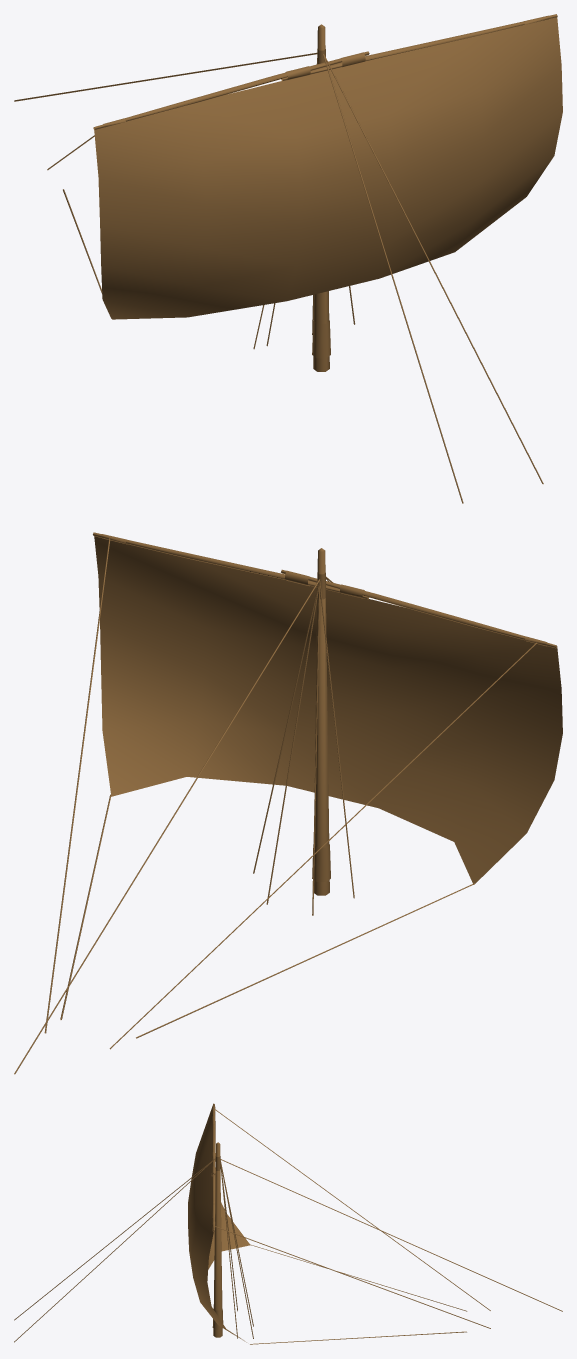
File: achae_bir_mast.glb
3 views of the same model, one above another, from view 1: azimuth 30°, elevation 25°; view 2: azimuth 150°, elevation 25°; view 3: azimuth 270°, elevation 25° (orthographic). The views are drawn at different scales.
Parts seen in each view (by area): view 1: ShipMast; view 2: ShipMast; view 3: ShipMast.
Boxes of the visible parts, x1=… form: ShipMast: x1=14, y1=14, x2=562, y2=503; ShipMast: x1=14, y1=532, x2=562, y2=1074; ShipMast: x1=14, y1=1103, x2=562, y2=1344.
Size of the model in its own units: 17.69 by 12.58 by 32.34.
